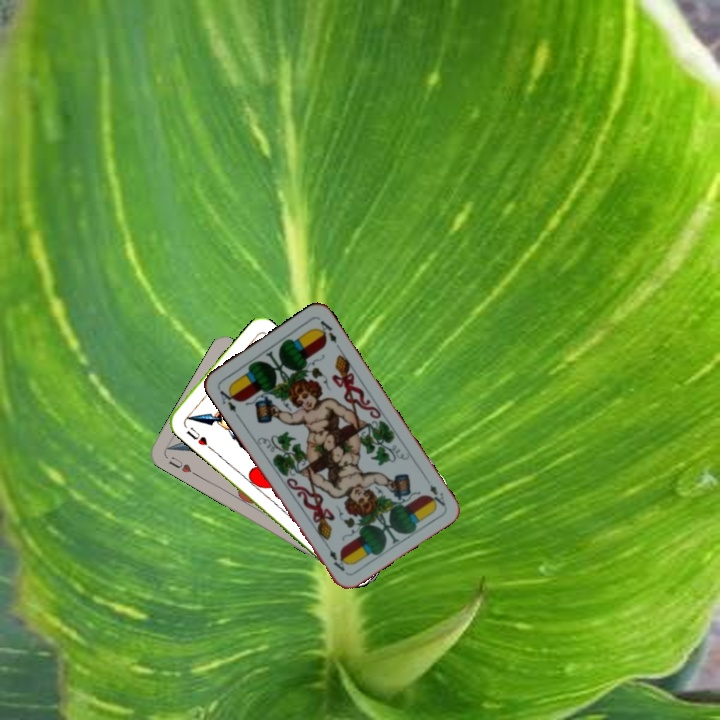EA: (421, 473, 448, 509), (216, 384, 241, 420)
HU: (164, 452, 199, 478), (182, 423, 210, 448)
